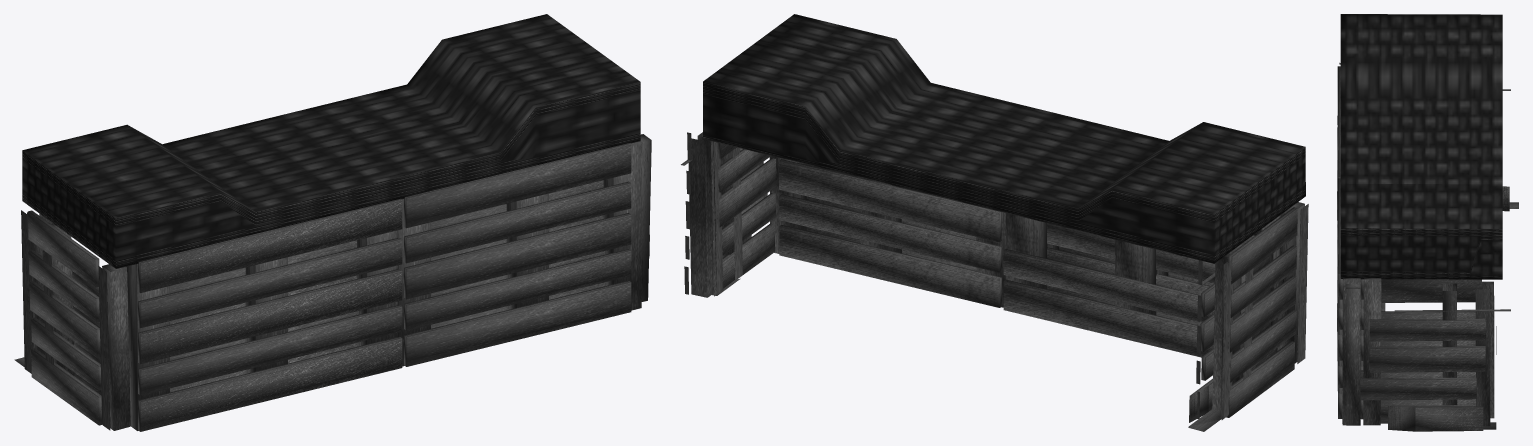
File: desk.obj
3 views of the same model, side by side, from view 1: azimuth 30°, elevation 25°; view 2: azimuth 150°, elevation 25°; view 3: azimuth 270°, elevation 25° (orthographic). The views are drawn at different scales.
Visible parts, largest first — view 1: polySurface74, pCube35; view 2: polySurface74, pCube35; view 3: pCube35, polySurface74.
Part boxes in pixels (x1,y1,x2,y2): polySurface74: [14, 134, 651, 431]; pCube35: [22, 14, 640, 268]; polySurface74: [681, 132, 1308, 431]; pCube35: [703, 14, 1305, 263]; pCube35: [1340, 14, 1502, 279]; polySurface74: [1337, 62, 1518, 431].
Size of the model in its own units: 30.69 by 12.07 by 10.12.
